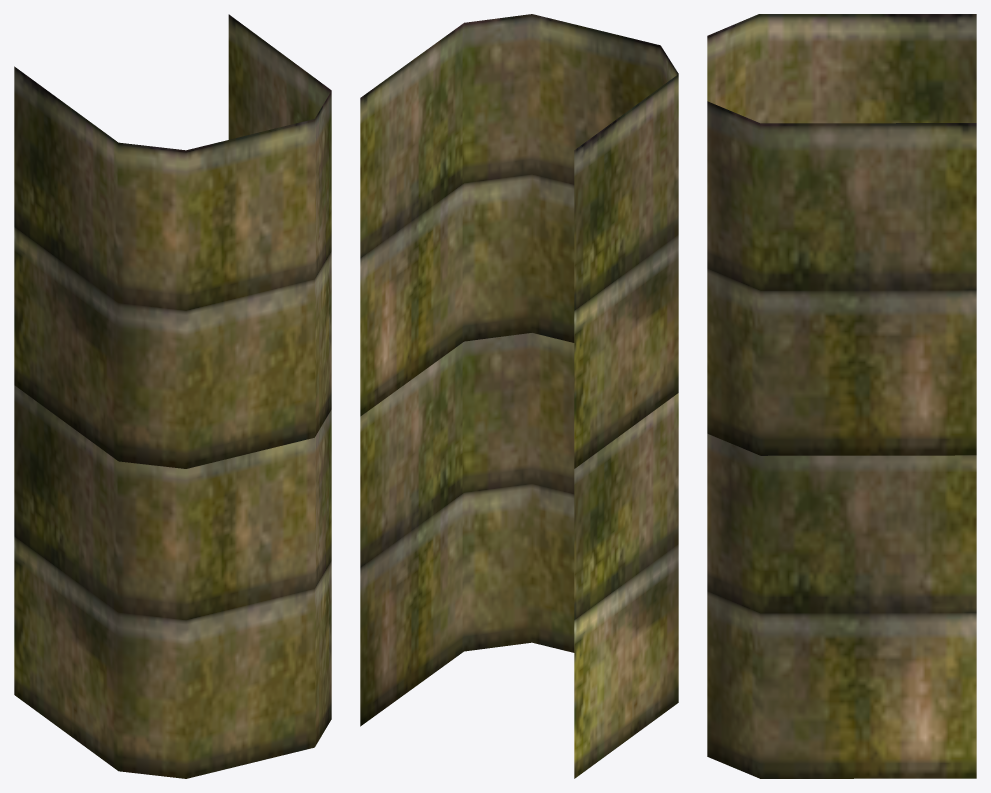
File: OVERHILL_A_01_LINE457.fbx
3 renders of one model, left to right at view 1: azimuth 30°, elevation 25°; view 2: azimuth 150°, elevation 25°; view 3: azimuth 270°, elevation 25°, orthographic. The views are drawn at different scales.
Visible parts, largest first — view 1: OVERHILL_A_01_LINE457; view 2: OVERHILL_A_01_LINE457; view 3: OVERHILL_A_01_LINE457.
Part boxes in pixels (x1,y1,x2,y2): OVERHILL_A_01_LINE457: [14, 14, 331, 778]; OVERHILL_A_01_LINE457: [360, 14, 678, 778]; OVERHILL_A_01_LINE457: [707, 14, 976, 778].
Size of the model in its own units: 9604 by 26954 by 10021.
1 material, 1 textured.
